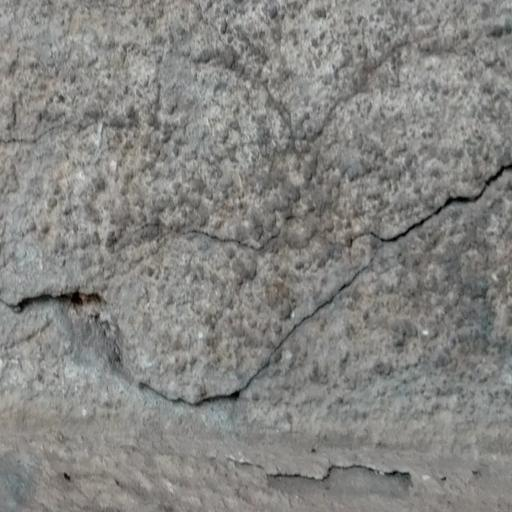minor_crack: (16, 151, 512, 407)
